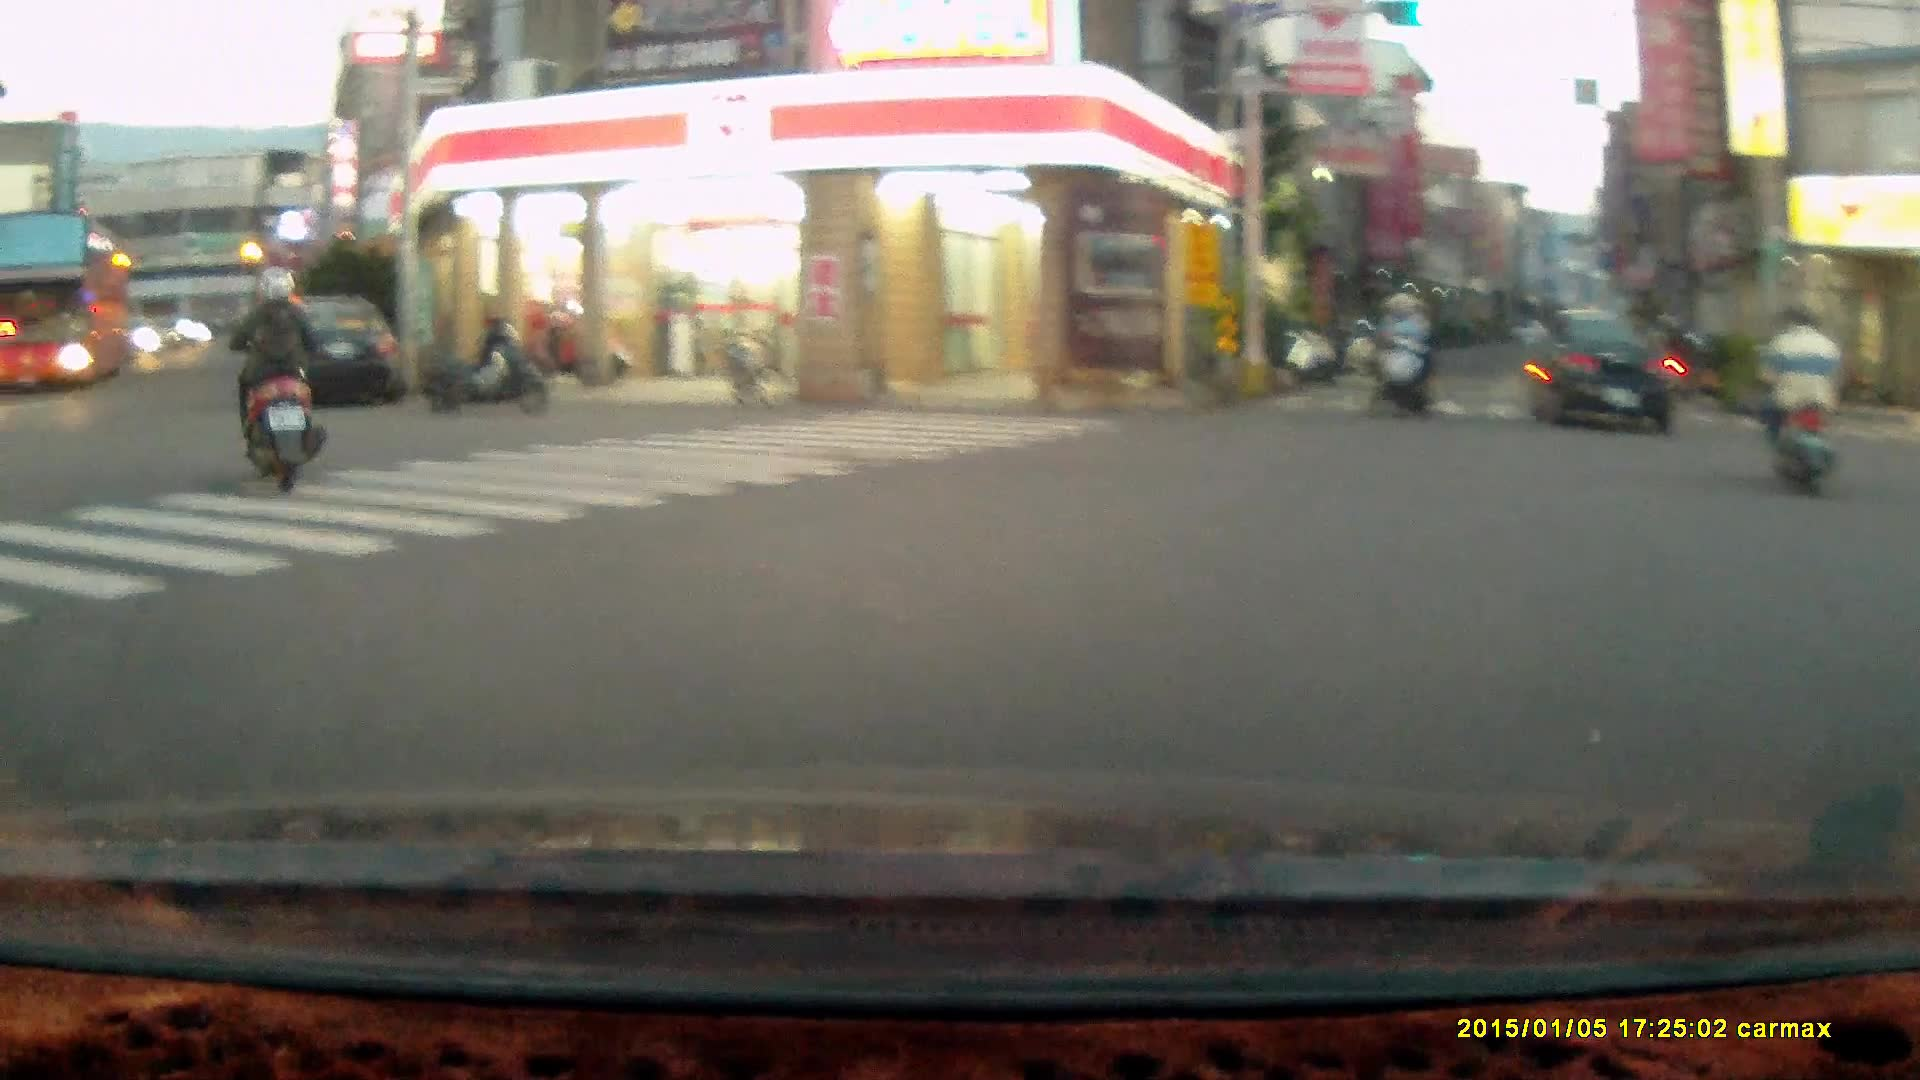rider: (227, 263, 326, 491), (1750, 298, 1846, 497), (1364, 290, 1434, 423)
vehicle: (1, 211, 134, 398), (1523, 306, 1687, 436), (270, 294, 409, 401)
